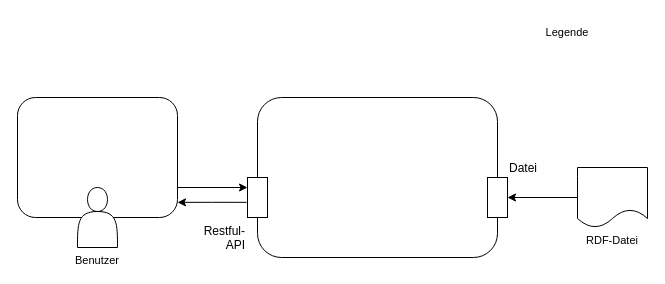
Some shapes in this 665 by 284 pixel diagram are drawn without their labels. The shapes that lost their labels are listed below. From the top down, each one's box as (x1, y1, x2, y2) in pixels, then its label:
(16, 96, 178, 218): Frontend
(256, 96, 498, 258): Backend
